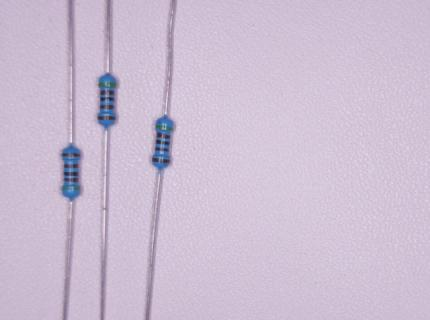Black band: (156, 139, 169, 145), (100, 97, 114, 101), (64, 172, 78, 176)
Brown band: (157, 132, 170, 139), (152, 158, 170, 163), (62, 152, 80, 157), (155, 147, 169, 152), (100, 104, 114, 109), (98, 116, 115, 120), (101, 90, 114, 95), (64, 164, 78, 168), (64, 178, 78, 182)
Green band: (155, 126, 173, 130), (62, 187, 80, 190), (99, 83, 117, 86)
